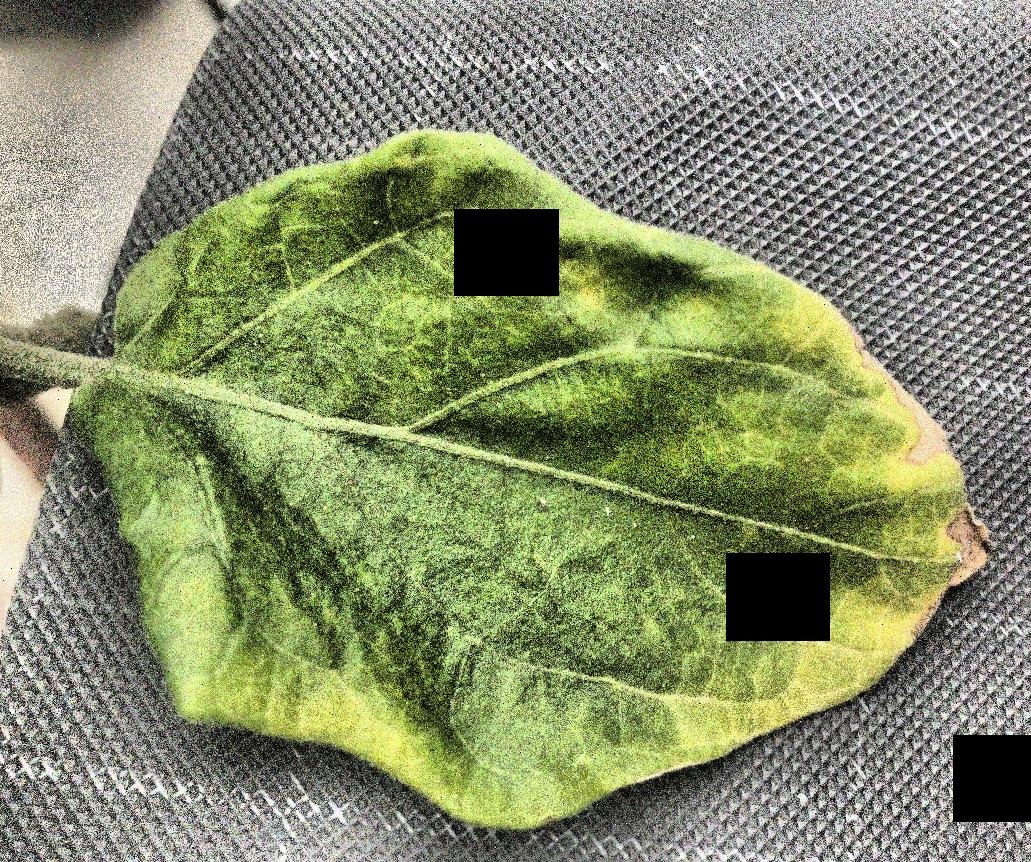Critical Stress: (1, 0, 1031, 862)
